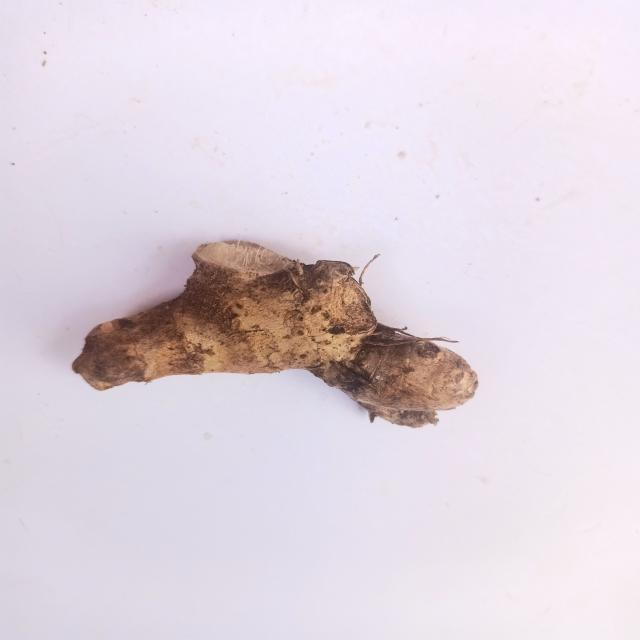Ginger: (64, 230, 492, 440)
